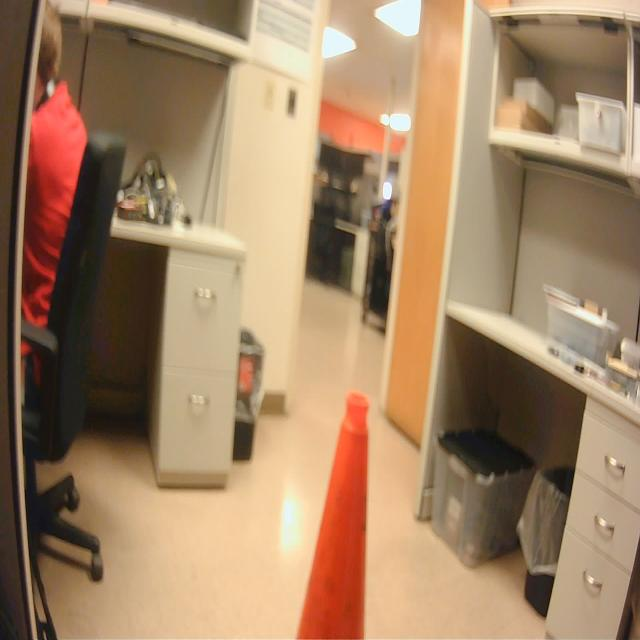traffic cone: (291, 385, 375, 640)
